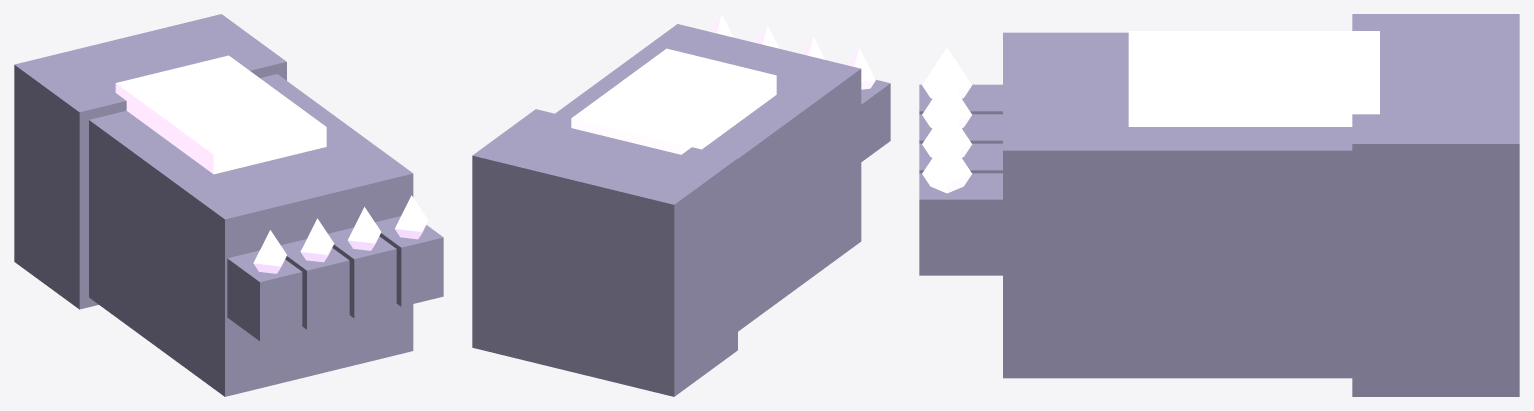
Rendered from w_fist.glb.
3 renders of one model, left to right at view 1: azimuth 30°, elevation 25°; view 2: azimuth 150°, elevation 25°; view 3: azimuth 270°, elevation 25°, orthographic. The views are drawn at different scales.
Visible parts, largest first — view 1: w_gauntlet, w_knuckle_glow; view 2: w_gauntlet, w_knuckle_glow; view 3: w_gauntlet, w_knuckle_glow.
Boxes of the visible parts, left/top/right/bottom form: w_gauntlet: left=14, top=14, right=443, bottom=396; w_knuckle_glow: left=115, top=55, right=428, bottom=273; w_gauntlet: left=472, top=24, right=890, bottom=396; w_knuckle_glow: left=571, top=14, right=875, bottom=154; w_gauntlet: left=919, top=14, right=1519, bottom=396; w_knuckle_glow: left=922, top=31, right=1379, bottom=193.
Size of the model in its own units: 0.22 by 0.21 by 0.43.
